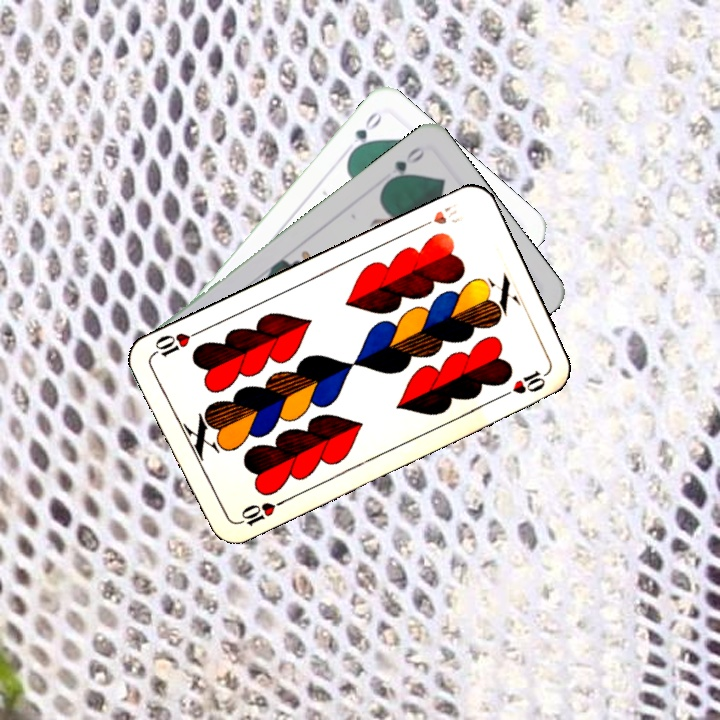GO: (381, 142, 428, 188), (345, 107, 385, 159)
H10: (231, 495, 287, 529), (413, 198, 466, 232)
